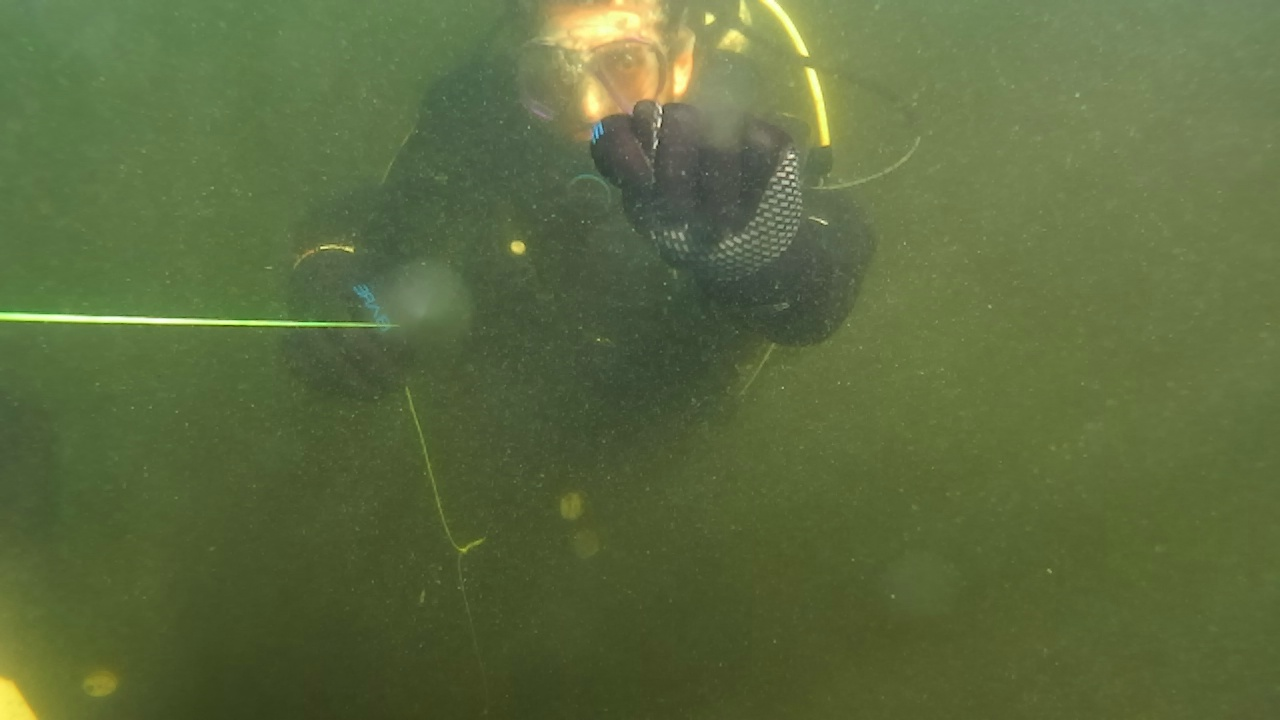Diver: (256, 2, 874, 484)
Hand: (586, 110, 816, 282), (288, 262, 422, 402)
Head: (496, 6, 692, 96)
